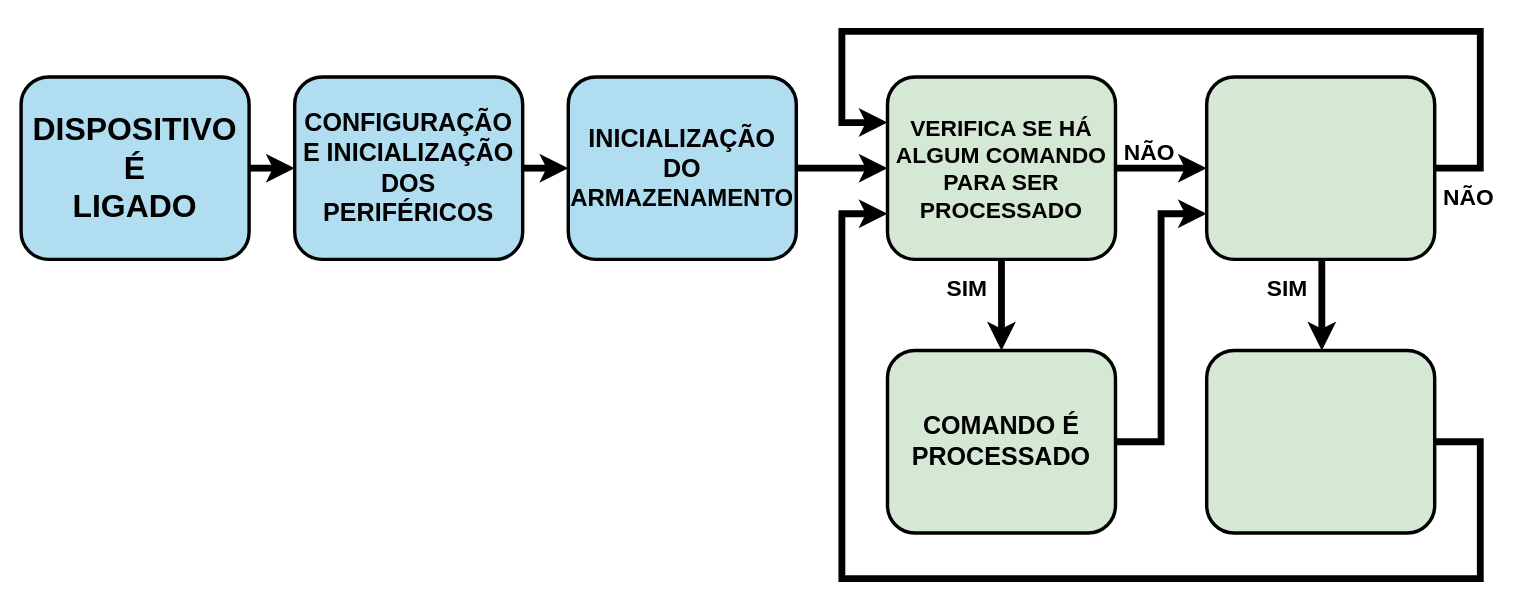
The diagram is 1523 pixels wide and 610 high, and some of its shapes have lost their labels. The shapes that lost their labels are listed below. From the top down, each one's centre as x and y in pixels, then its label:
At point (1320, 167): "VERIFICA SE PASSOU 10 MINUTOS".
At point (1320, 441): "ARMAZENA VALOR DA TEMPERATURA ATUAL".
